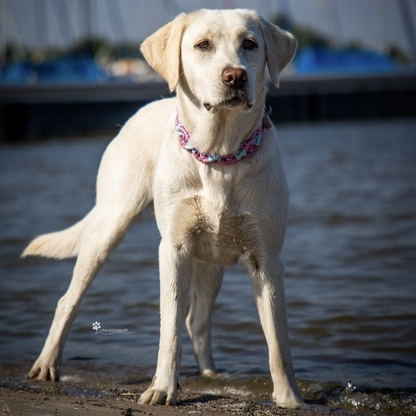labrado: (17, 5, 311, 413)
